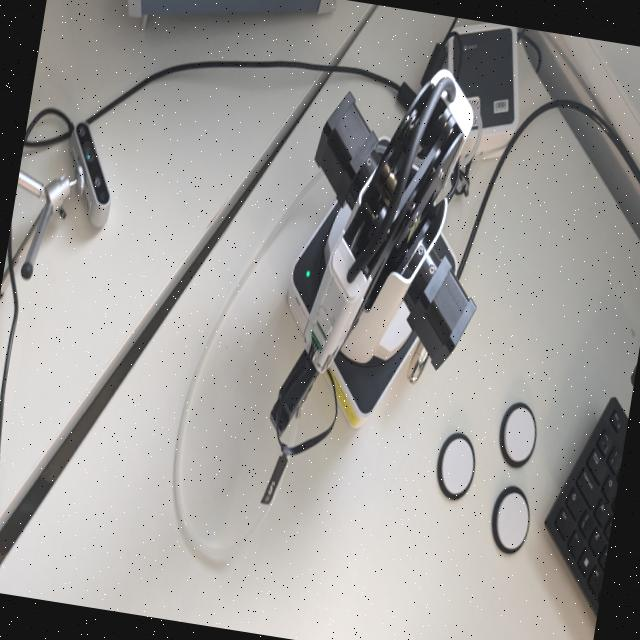Robot-end-effector-HF8z: (260, 342, 323, 458)
